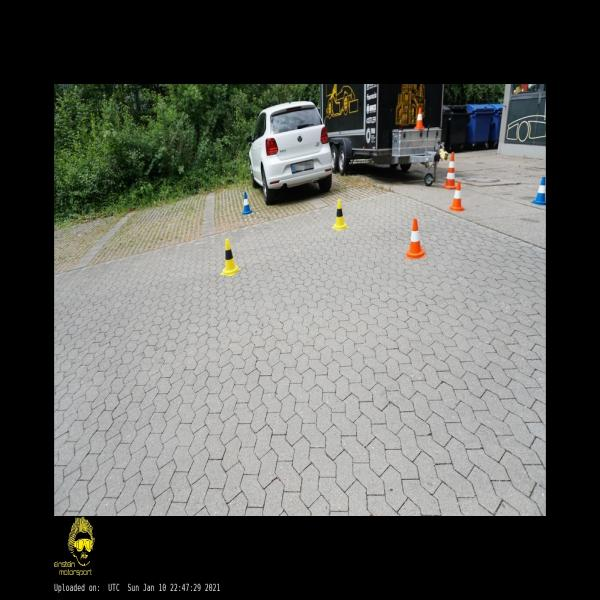blue_cone: (530, 176, 546, 206), (242, 192, 252, 214)
large_orange_cone: (442, 152, 457, 188)
orange_cone: (406, 218, 425, 258), (450, 181, 464, 211), (414, 107, 424, 129)
yellow_cone: (220, 238, 240, 276), (331, 199, 348, 230)
